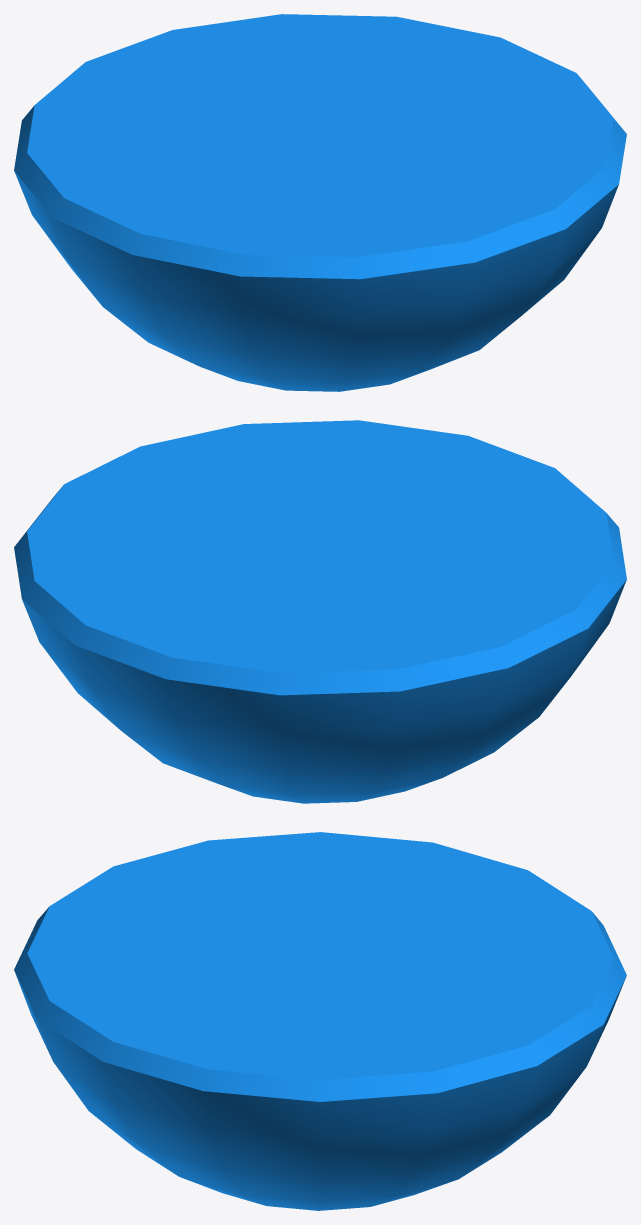
Rendered from Leg_04.fbx.
3 views of the same model, one above another, from view 1: azimuth 30°, elevation 25°; view 2: azimuth 150°, elevation 25°; view 3: azimuth 270°, elevation 25° (orthographic).
Parts seen in each view (by area): view 1: Leg_04; view 2: Leg_04; view 3: Leg_04.
Boxes of the visible parts, <box> form: Leg_04: <box>14,14,626,391</box>; Leg_04: <box>14,420,626,803</box>; Leg_04: <box>14,832,626,1210</box>.
Bounding box in the file's own units: 95.42 × 39.33 × 95.42.
